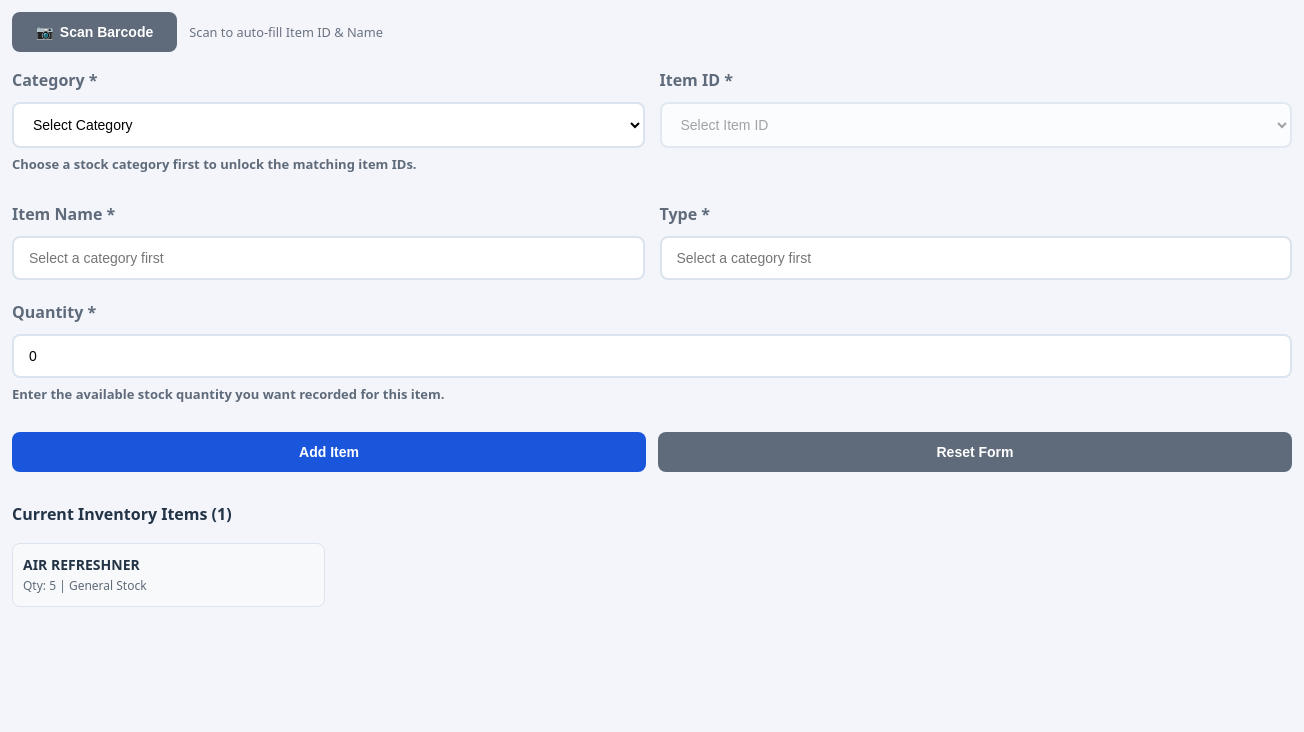
Test: InventoryForm › creates a new item in add mode and shows the inventory preview
Expected: the heading "Current Inventory Items (1)" is shown, [12, 503, 232, 525]
Expected: the text "Choose a stock category first to unlock the matching item IDs." is shown, [12, 155, 417, 173]
Select "General Stock" in the dropdown labelled "Category *" at (328, 125), box [12, 102, 644, 148]
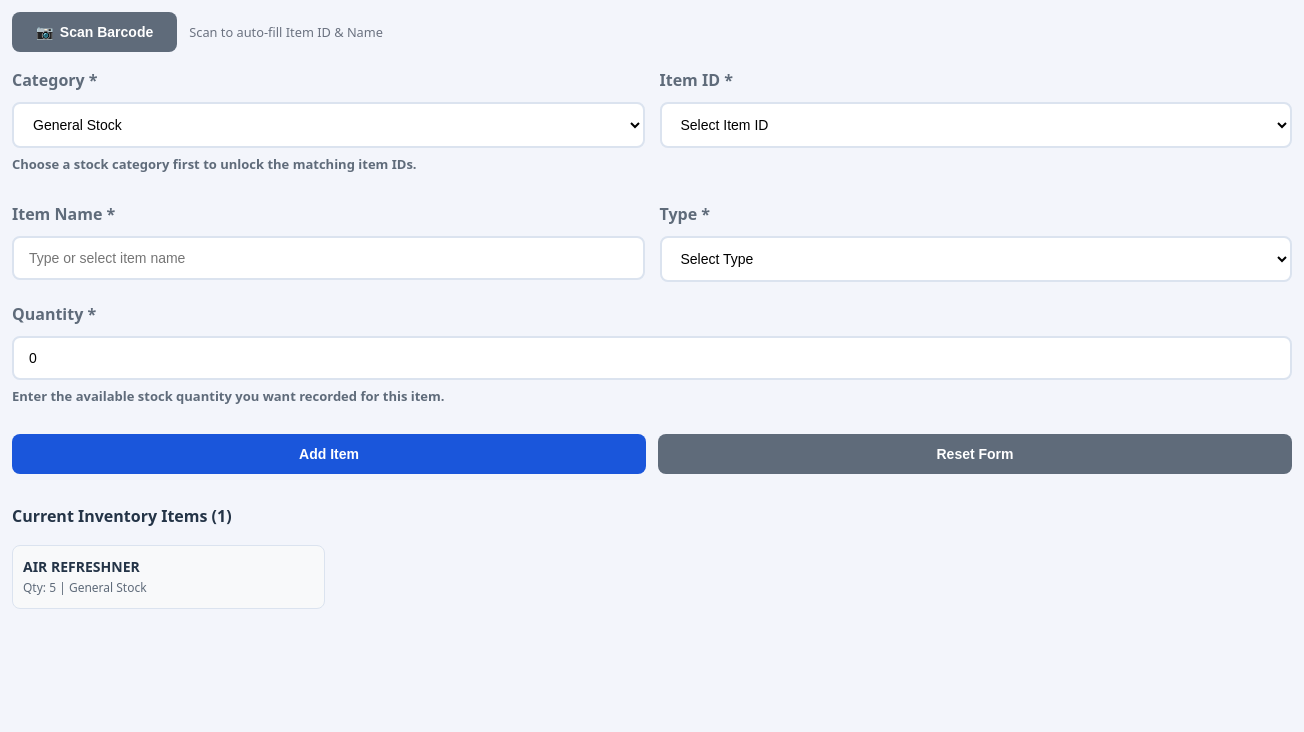
Select "GEN-001 — AIR REFRESHNER" in the dropdown labelled "Item ID *" at (976, 125), box [660, 102, 1292, 148]
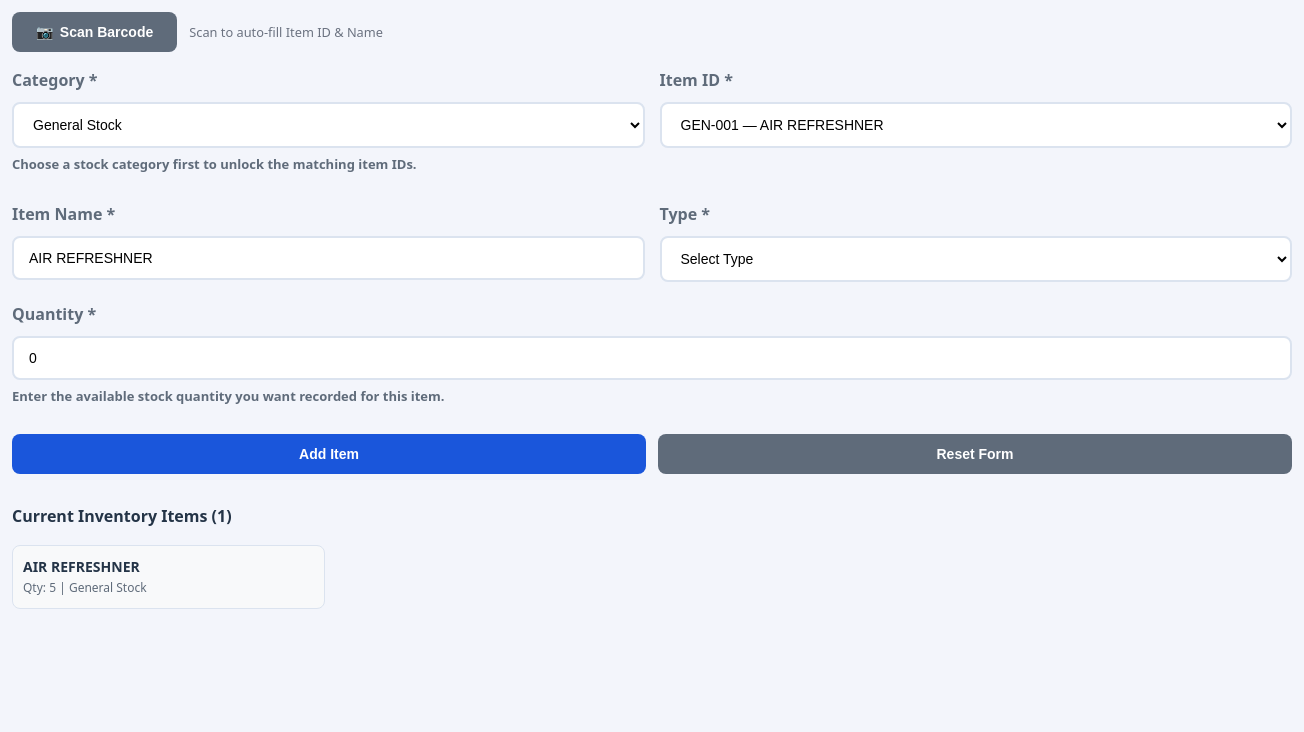
Select "Cleaning & Hygiene" in the dropdown labelled "Type *" at (976, 259), box [660, 236, 1292, 282]
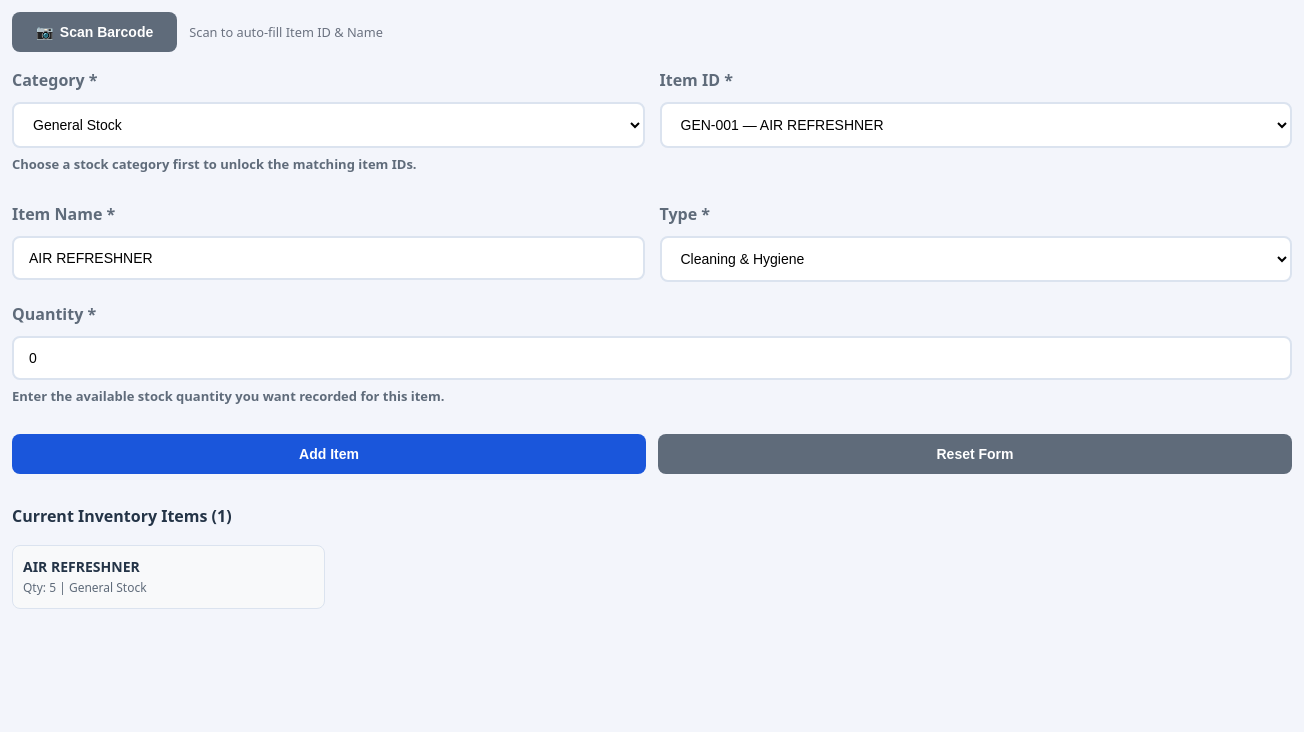
Replace the text in the number field labelled "Quantity *" with "7" at (652, 358), box [12, 336, 1292, 380]
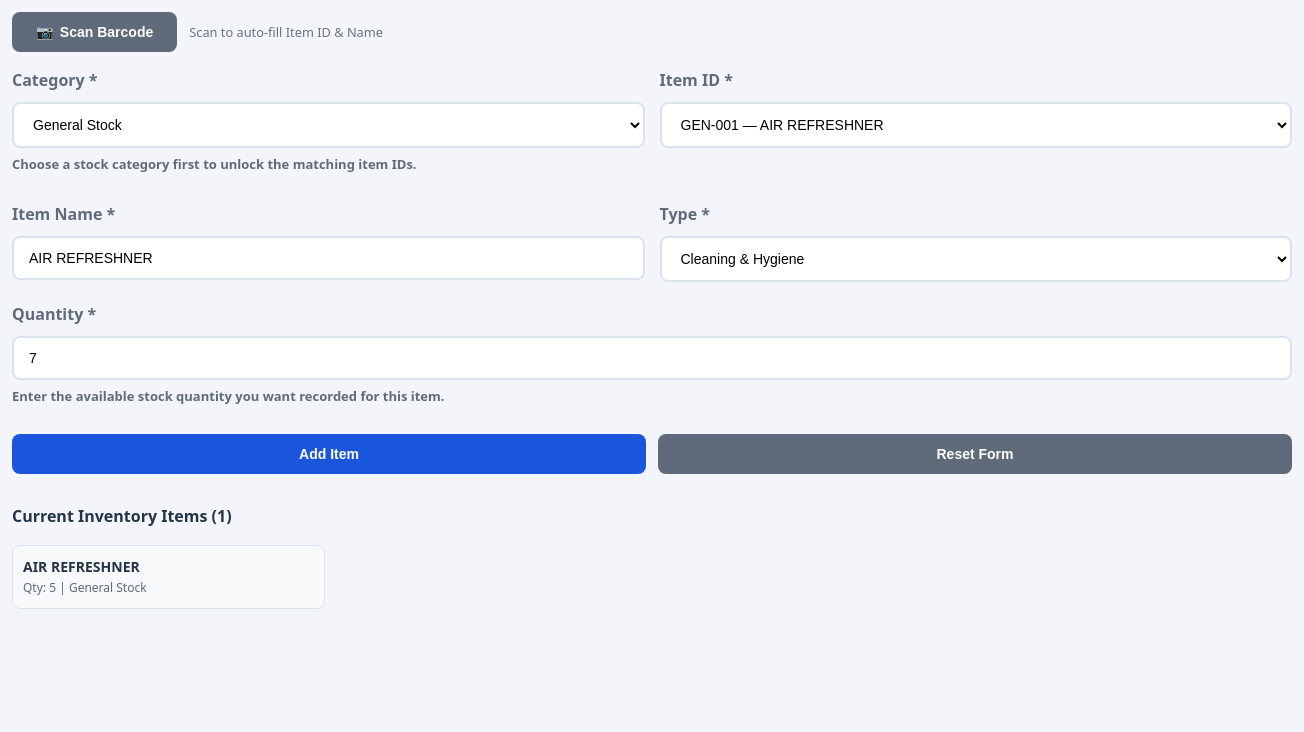
Click the button "Add Item" at (329, 454), box [12, 434, 646, 474]
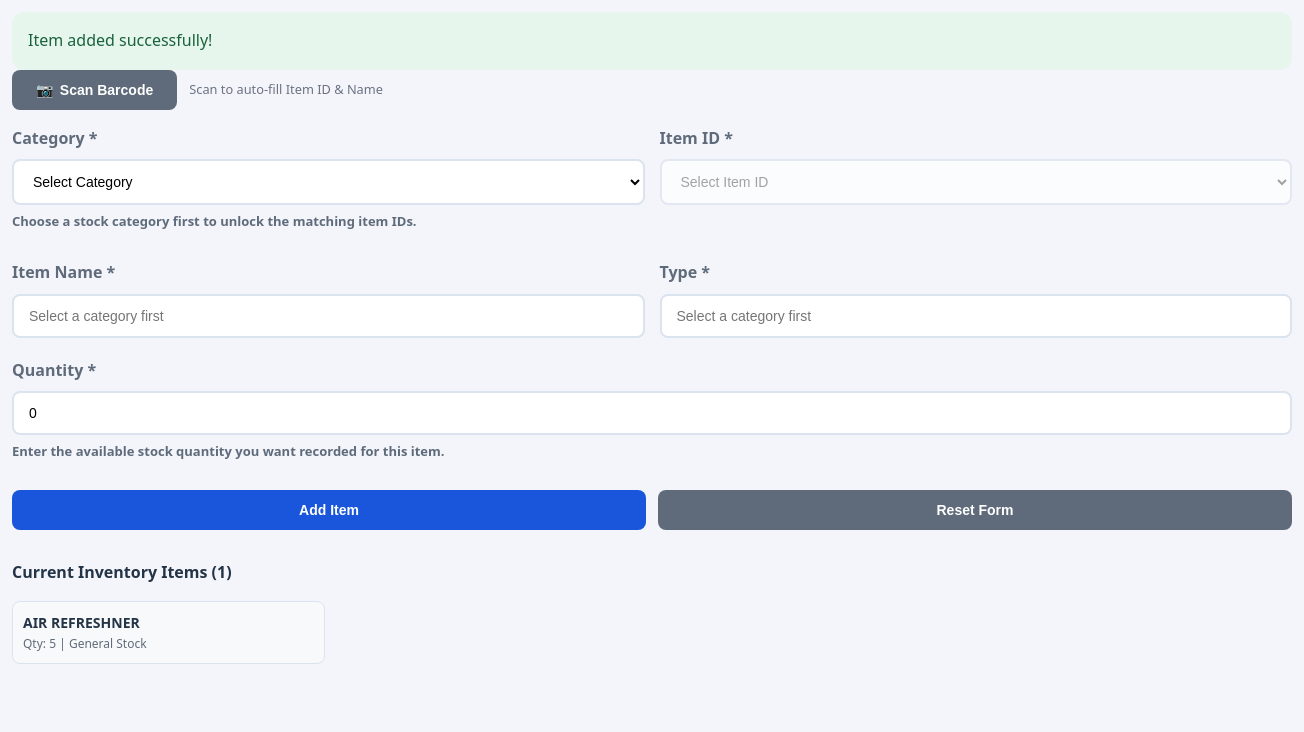
Expected: the message reads "Item added successfully!", [28, 29, 212, 51]
